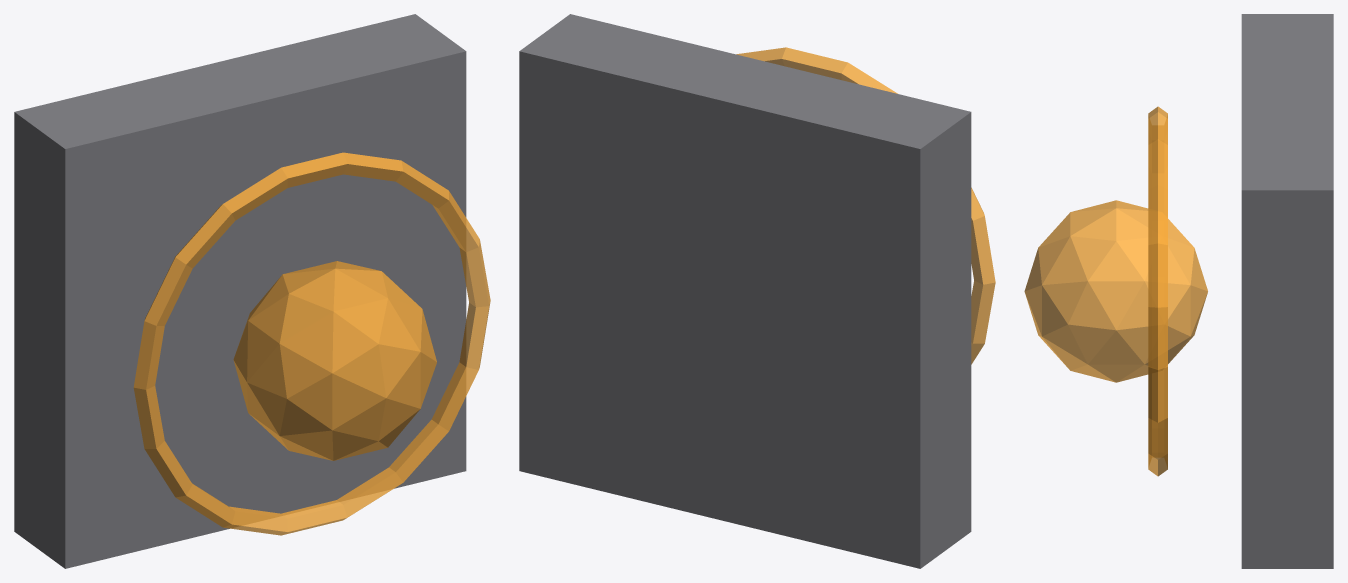
File: locked_mechanism_box.glb
3 views of the same model, side by side, from view 1: azimuth 30°, elevation 25°; view 2: azimuth 150°, elevation 25°; view 3: azimuth 270°, elevation 25° (orthographic). The views are drawn at different scales.
Visible parts, largest first — view 1: puzzle_base, puzzle_core, rune_ring; view 2: puzzle_base, rune_ring; view 3: puzzle_base, puzzle_core, rune_ring.
Part boxes in pixels (x1,y1,x2,y2): puzzle_base: (14,14,466,568); puzzle_core: (233,261,436,460); rune_ring: (133,152,490,535); puzzle_base: (519,14,971,568); rune_ring: (736,47,995,364); puzzle_base: (1241,14,1333,568); puzzle_core: (1024,200,1207,382); rune_ring: (1148,106,1167,476).
Size of the model in its own units: 1 by 1 by 0.74.
